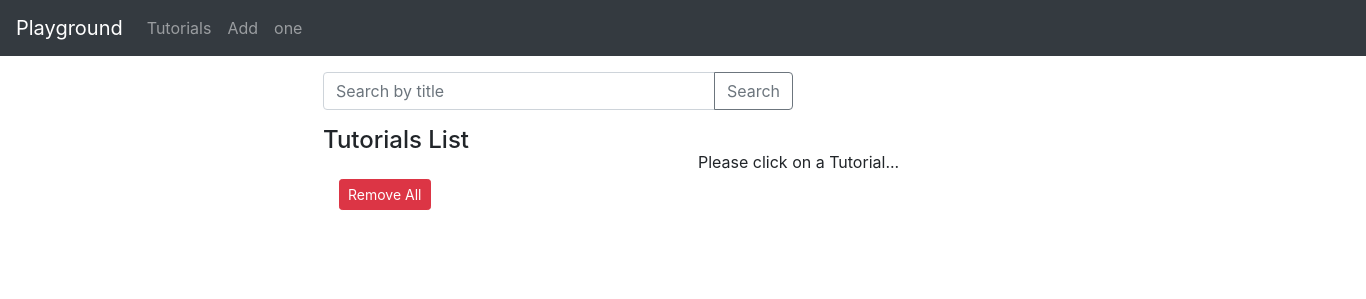
Test: <App /> › 2. 나비게시션바 동적 확인 테스트,
The image size is (1366, 299).
클릭 이후 submit 버튼이 보여야 한다.
What coordinates should you click on to do the following:
click the link "Add"
I would click on:
 (243, 28)
Its box is [227, 18, 258, 38].
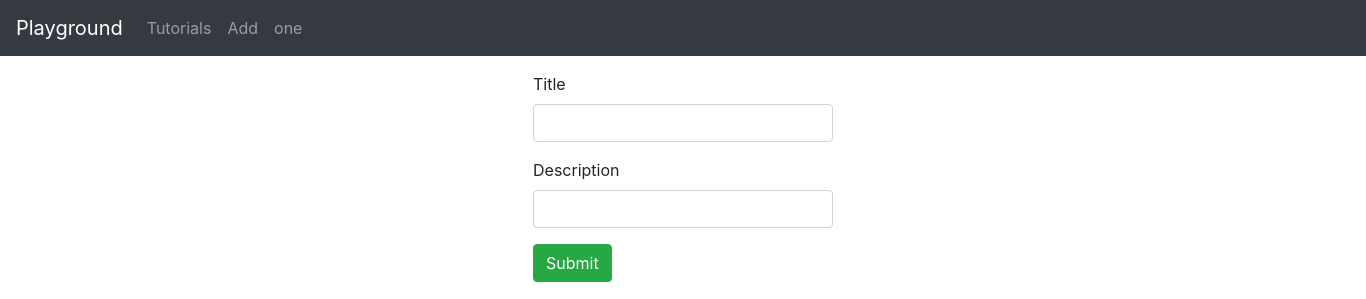
Expected: the button "Submit" is shown, [533, 244, 612, 282]
